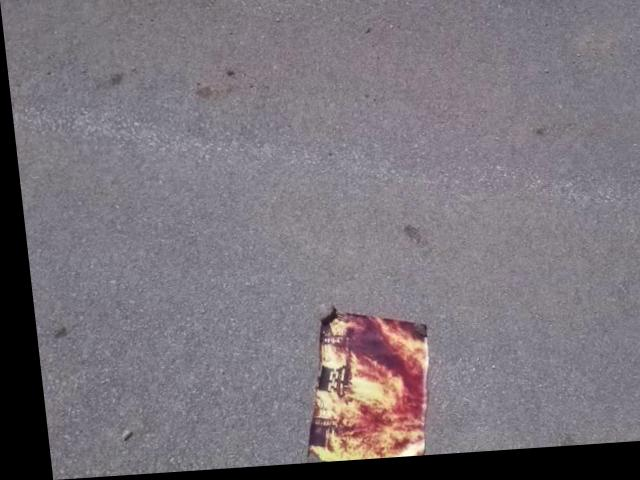fire-poster: (280, 302, 433, 466)
